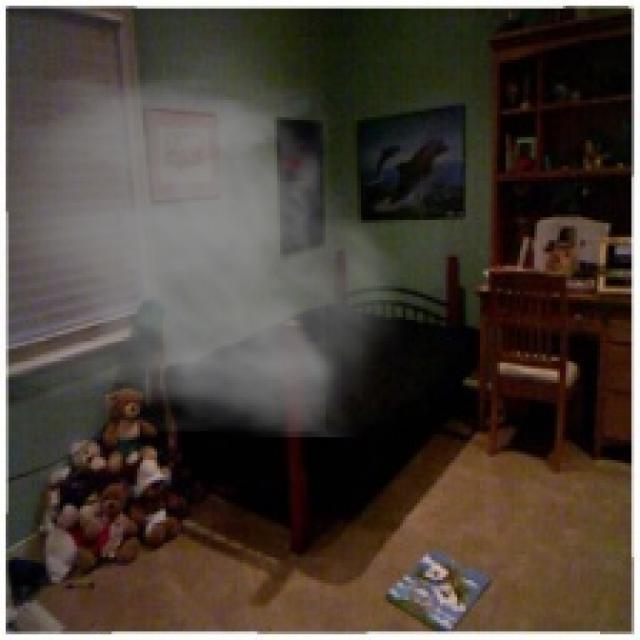Smoke: (9, 74, 418, 437)
